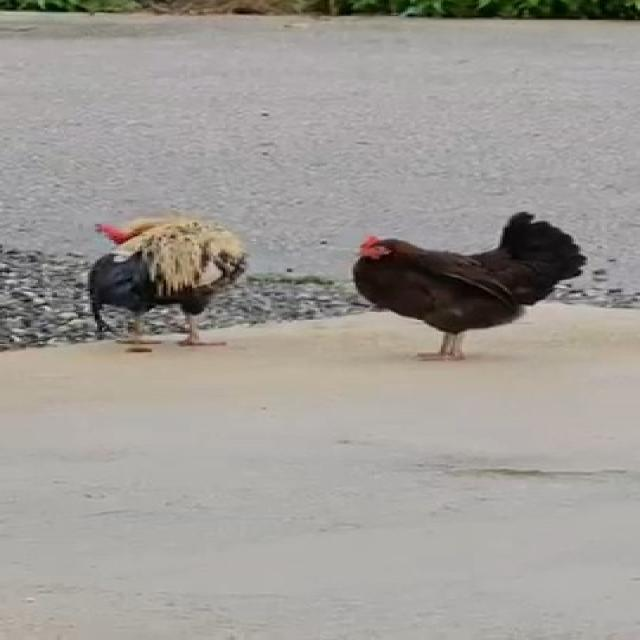self preening: (335, 204, 583, 366), (62, 210, 255, 356)
